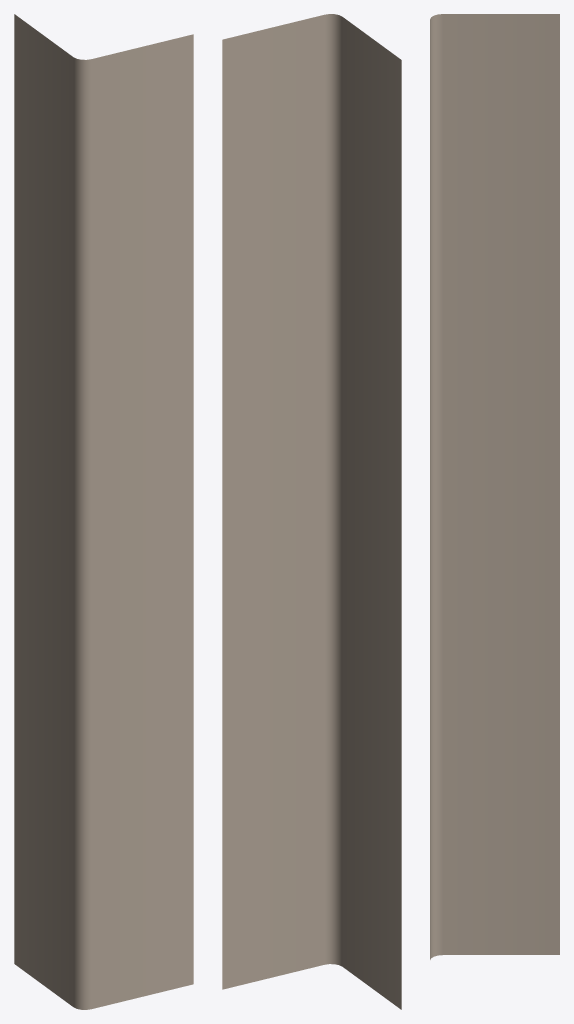
The model's file is SM_Building_Wall_Corner_01.fbx.
3 renders of one model, left to right at view 1: azimuth 30°, elevation 25°; view 2: azimuth 210°, elevation 25°; view 3: azimuth 270°, elevation 25°, orthographic.
Parts seen in each view (by area): view 1: SM_Building_Wall_Corner_01; view 2: SM_Building_Wall_Corner_01; view 3: SM_Building_Wall_Corner_01.
Part boxes in pixels (x1,y1,x2,y2): SM_Building_Wall_Corner_01: [14, 14, 193, 1009]; SM_Building_Wall_Corner_01: [222, 14, 401, 1009]; SM_Building_Wall_Corner_01: [430, 14, 559, 959].
Bounding box in the file's own units: 50 × 400 × 50.
